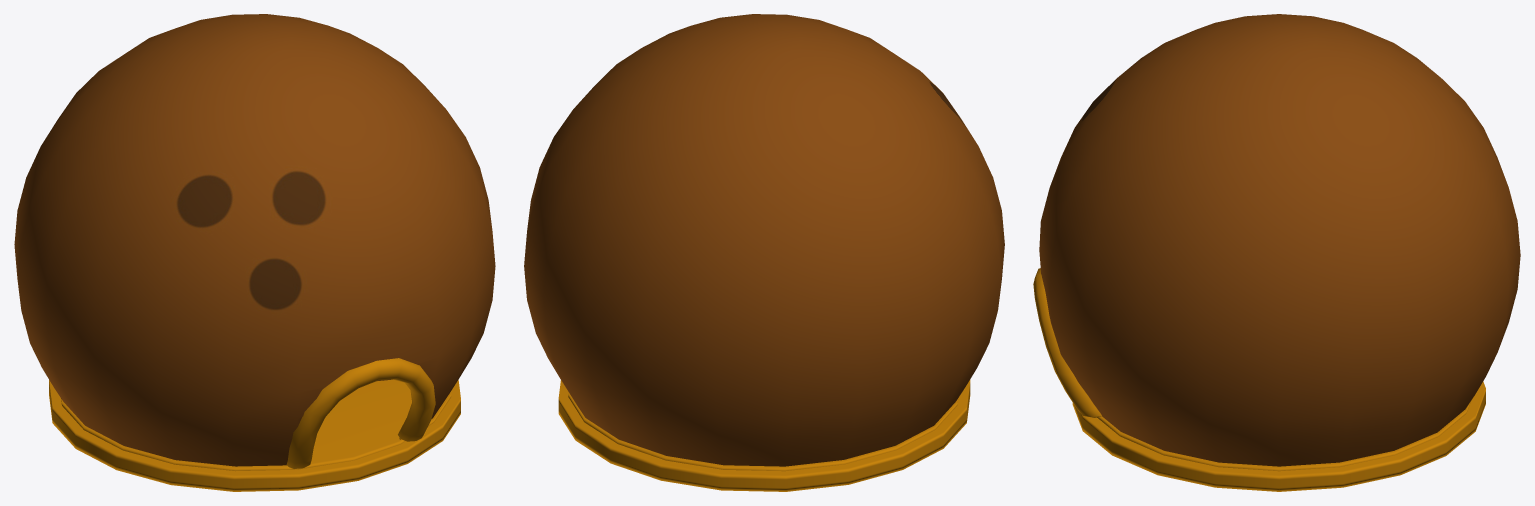
File: HouseCoconut.fbx
3 renders of one model, left to right at view 1: azimuth 30°, elevation 25°; view 2: azimuth 150°, elevation 25°; view 3: azimuth 270°, elevation 25°, orthographic.
Parts seen in each view (by area): view 1: pCylinder3; view 2: pCylinder3; view 3: pCylinder3.
Part boxes in pixels (x1=…): pCylinder3: x1=14, y1=14, x2=495, y2=491; pCylinder3: x1=524, y1=14, x2=1004, y2=491; pCylinder3: x1=1033, y1=14, x2=1520, y2=491.
Size of the model in its own units: 4.4 by 3.7 by 4.44.
